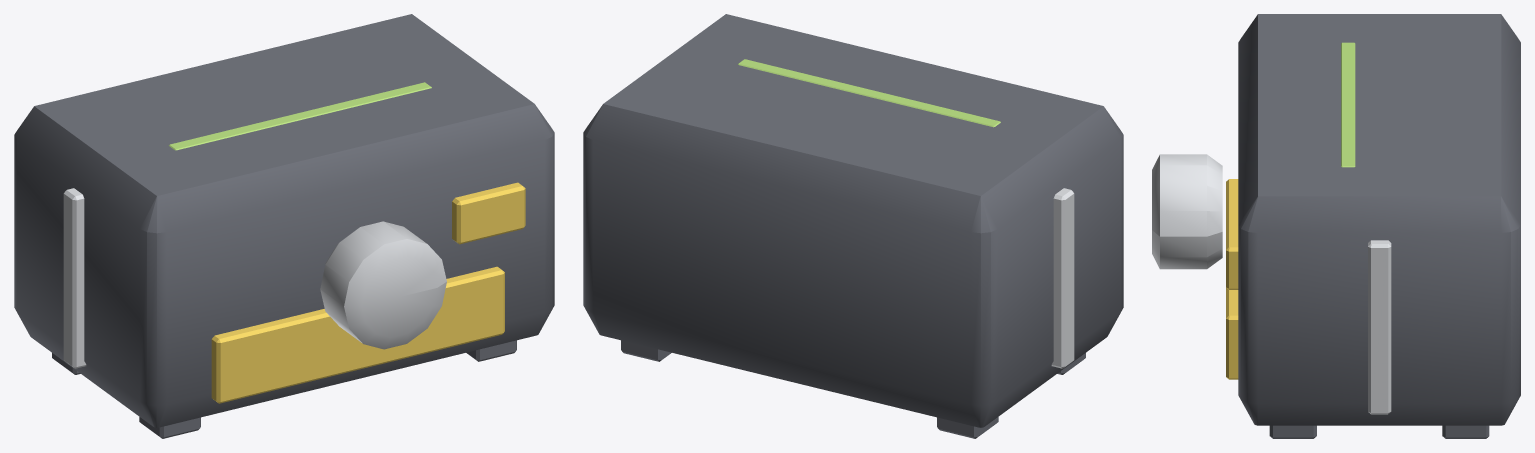
File: laser-tag-arena-and-activity-centre-smoke-machine-fa196d2d__34512.glb
3 views of the same model, side by side, from view 1: azimuth 30°, elevation 25°; view 2: azimuth 150°, elevation 25°; view 3: azimuth 270°, elevation 25° (orthographic).
Visible parts, largest first — view 1: smoke-machine; view 2: smoke-machine; view 3: smoke-machine.
Part boxes in pixels (bbox=[...]): smoke-machine: bbox=[14, 14, 554, 438]; smoke-machine: bbox=[583, 14, 1123, 438]; smoke-machine: bbox=[1152, 14, 1520, 438].
Size of the model in its own units: 0.63 by 0.3512 by 0.47.
